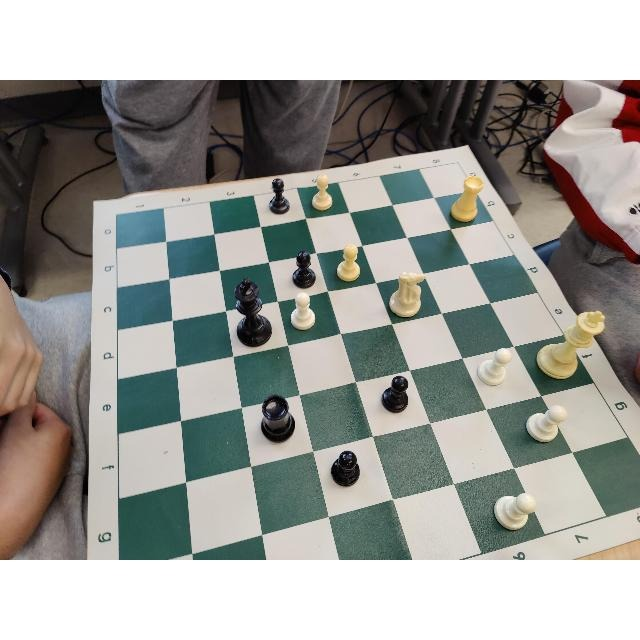black-king: (234, 277, 272, 347)
black-pawn: (381, 375, 409, 413), (332, 450, 360, 486), (293, 250, 316, 287), (269, 178, 289, 214)
black-rook: (262, 394, 294, 442)
white-king: (536, 309, 605, 378)
white-knight: (390, 273, 426, 317)
white-pawn: (494, 494, 536, 532), (527, 406, 567, 442), (477, 348, 512, 388), (290, 292, 315, 331), (337, 243, 361, 282), (311, 174, 332, 210)
white-rook: (451, 175, 485, 222)
